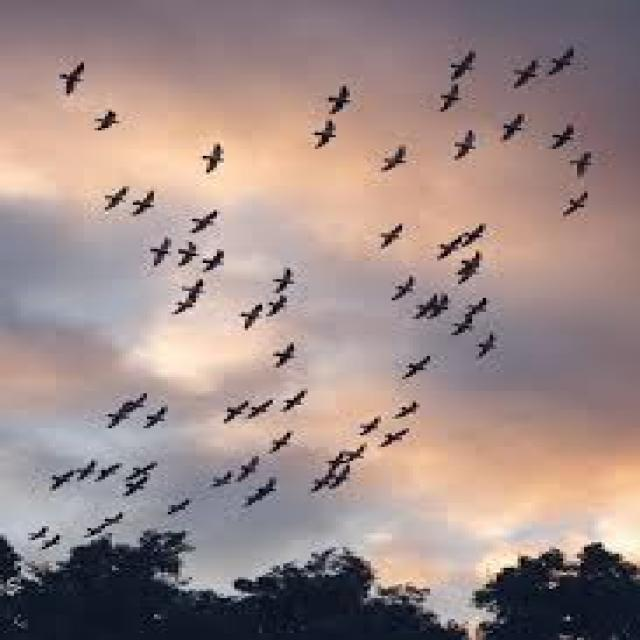bird: (33, 50, 110, 97), (178, 200, 242, 240), (308, 66, 353, 120), (77, 176, 133, 216), (532, 40, 588, 80), (362, 216, 414, 258), (190, 137, 243, 177), (442, 40, 488, 86), (489, 105, 532, 151), (370, 138, 420, 176), (446, 122, 484, 171), (140, 398, 186, 438), (494, 54, 540, 94), (91, 104, 133, 146), (302, 116, 344, 158), (280, 378, 322, 420), (430, 80, 472, 122), (542, 116, 581, 160), (260, 261, 306, 298), (214, 392, 262, 427), (372, 272, 422, 305), (244, 470, 284, 510), (262, 338, 308, 372), (229, 296, 268, 336), (154, 299, 196, 336), (563, 149, 605, 186), (402, 287, 440, 327), (454, 246, 490, 288), (229, 446, 264, 488), (138, 226, 170, 270), (90, 456, 130, 491), (119, 454, 168, 482), (248, 382, 280, 424), (399, 350, 437, 385), (556, 188, 595, 222), (376, 427, 425, 453), (470, 328, 506, 363), (201, 240, 229, 284), (70, 447, 98, 491), (92, 506, 138, 530), (459, 216, 492, 249), (463, 290, 495, 324), (348, 411, 383, 442), (428, 233, 464, 263), (96, 401, 128, 434), (173, 235, 201, 272), (138, 178, 159, 227), (178, 280, 214, 308), (344, 437, 376, 468), (122, 383, 150, 418), (264, 432, 306, 455), (163, 493, 194, 524), (440, 314, 480, 338), (392, 394, 426, 420), (110, 478, 156, 497), (48, 462, 74, 495), (308, 466, 336, 496), (77, 522, 112, 546), (201, 467, 233, 492), (426, 293, 454, 321), (266, 290, 287, 327), (14, 518, 46, 542), (322, 442, 342, 475), (336, 466, 356, 492), (44, 532, 64, 556)
